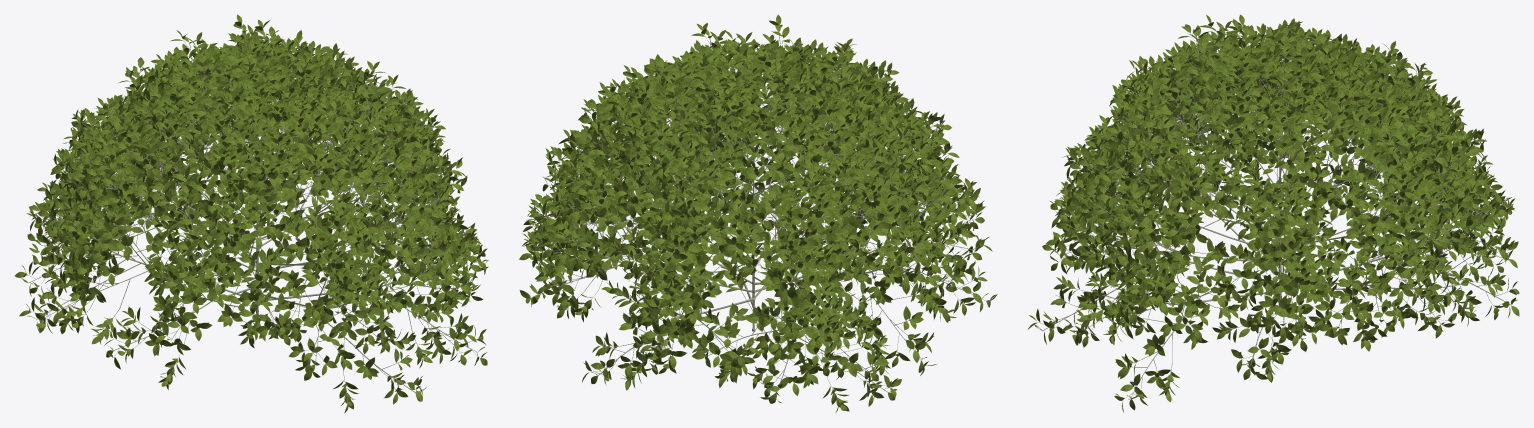
3 renders of one model, left to right at view 1: azimuth 30°, elevation 25°; view 2: azimuth 150°, elevation 25°; view 3: azimuth 270°, elevation 25°, orthographic. The views are drawn at different scales.
Parts seen in each view (by area): view 1: Azalea_1.Shape; view 2: Azalea_1.Shape; view 3: Azalea_1.Shape.
Boxes of the visible parts, x1,y1,x2,y2 form: Azalea_1.Shape: (14, 14, 488, 413); Azalea_1.Shape: (518, 14, 997, 412); Azalea_1.Shape: (1027, 14, 1519, 412).
Bounding box in the file's own units: 0.7573 × 0.5325 × 0.7779.
Materials: 2 (1 with a texture image).
